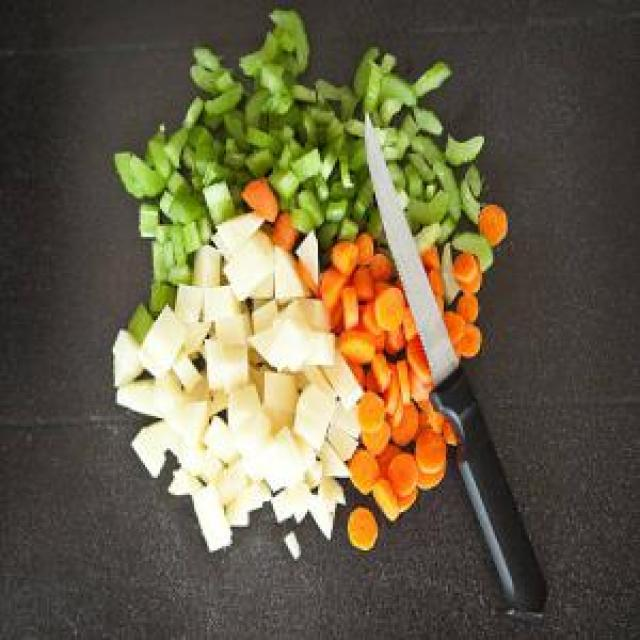knife: (360, 107, 550, 627)
